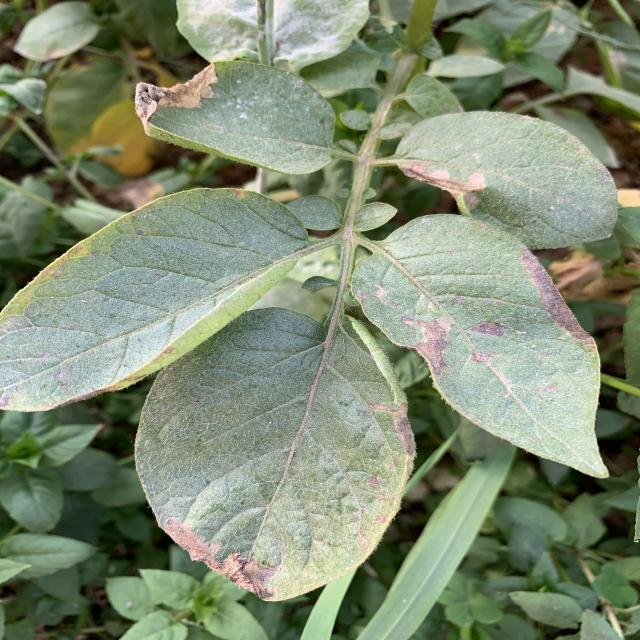lateblight: (163, 518, 282, 599), (522, 248, 595, 350), (135, 64, 218, 135), (398, 161, 487, 216), (400, 315, 452, 378), (470, 321, 507, 336)
